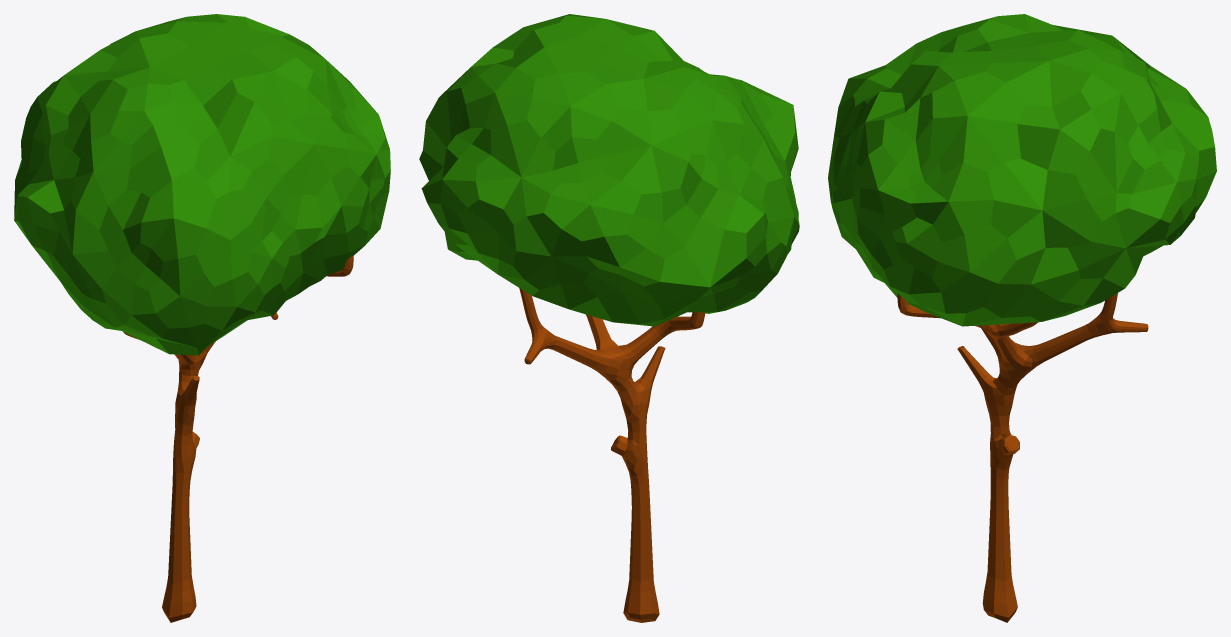
Rendered from little trees.fbx.
The picture shows the model from 3 angles, left to right: view 1: azimuth 30°, elevation 25°; view 2: azimuth 150°, elevation 25°; view 3: azimuth 270°, elevation 25°; orthographic projection. The views are drawn at different scales.
Parts seen in each view (by area): view 1: arbre petit; view 2: arbre petit; view 3: arbre petit.
Boxes of the visible parts, <box> form: arbre petit: <box>14,14,390,622</box>; arbre petit: <box>419,14,799,622</box>; arbre petit: <box>828,14,1216,622</box>.
Bounding box in the file's own units: 606 × 1003 × 593.
